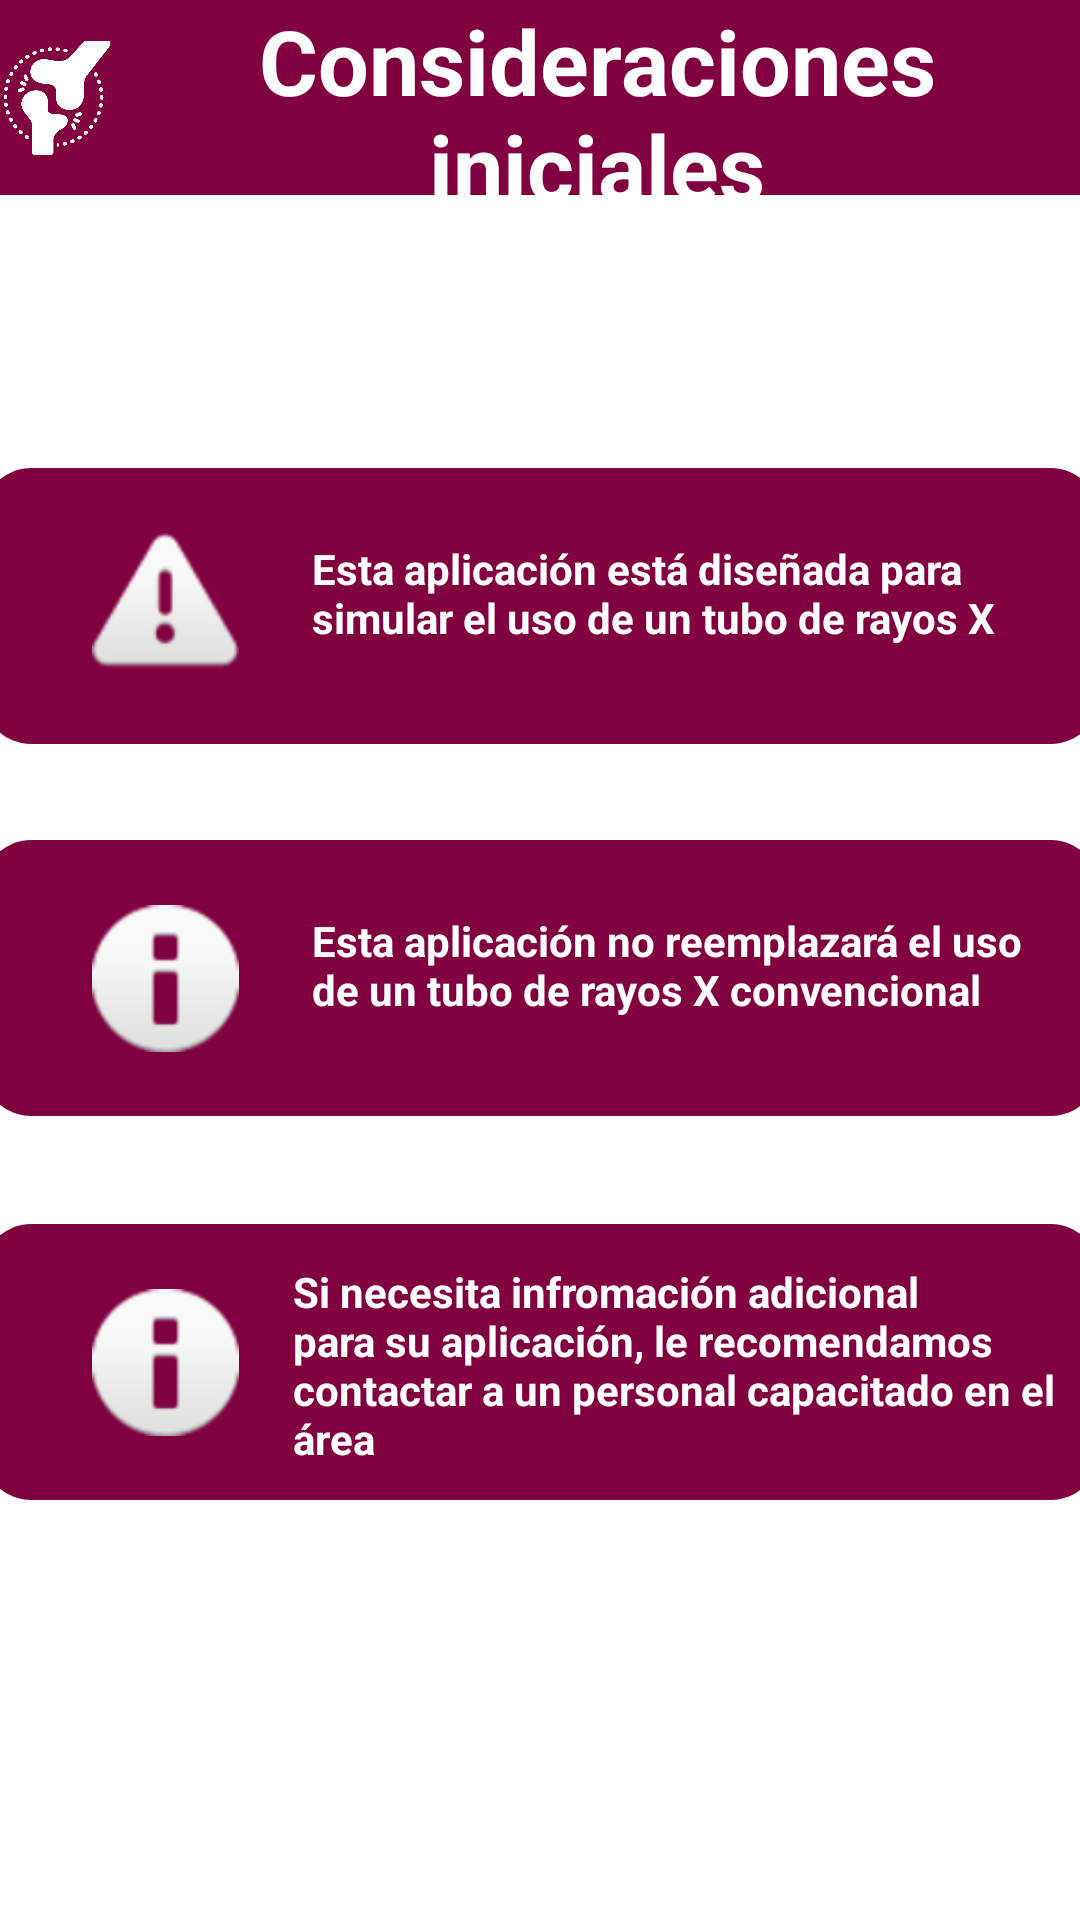

Locate icon controls on the screen. Image size 1080px x 1920px, boxes as [x1=x1, y1=y1, x2=x2, y2=y2].
alert: [x1=92, y1=533, x2=239, y2=667]
info: [x1=92, y1=905, x2=239, y2=1052], [x1=92, y1=1289, x2=239, y2=1436]
